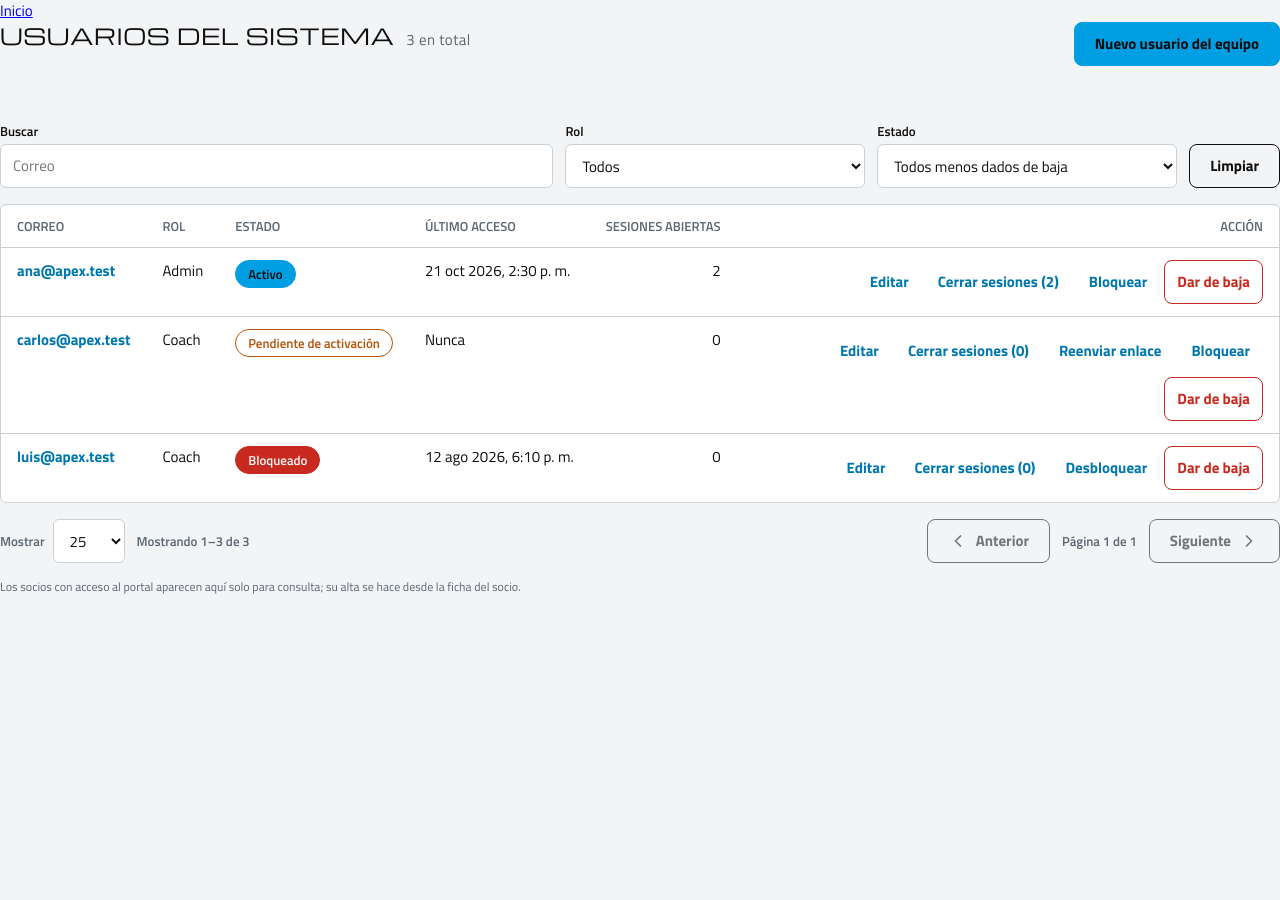
Test: UsersPage · cerrar el alta › Cancelar cierra el panel y la lista sigue igual
The width and height of the screenshot is (1280, 900).
Check: the link "ana@apex.test" is shown, box [17, 259, 115, 282]
Click the button "Nuevo usuario del equipo".
click(1177, 44)  # box [1074, 22, 1279, 66]
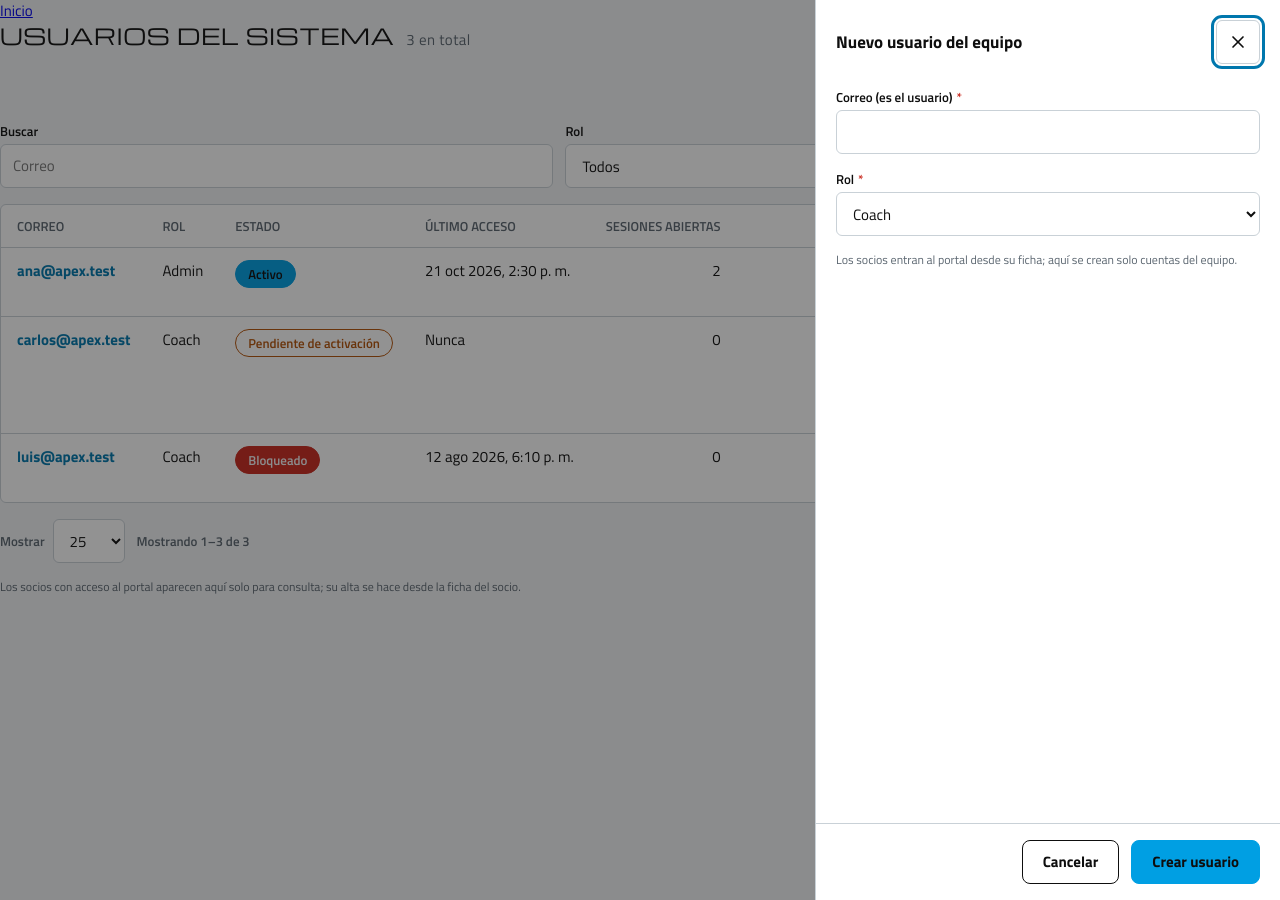
Click the button "Cancelar".
click(1070, 862)  # box [1022, 840, 1119, 884]
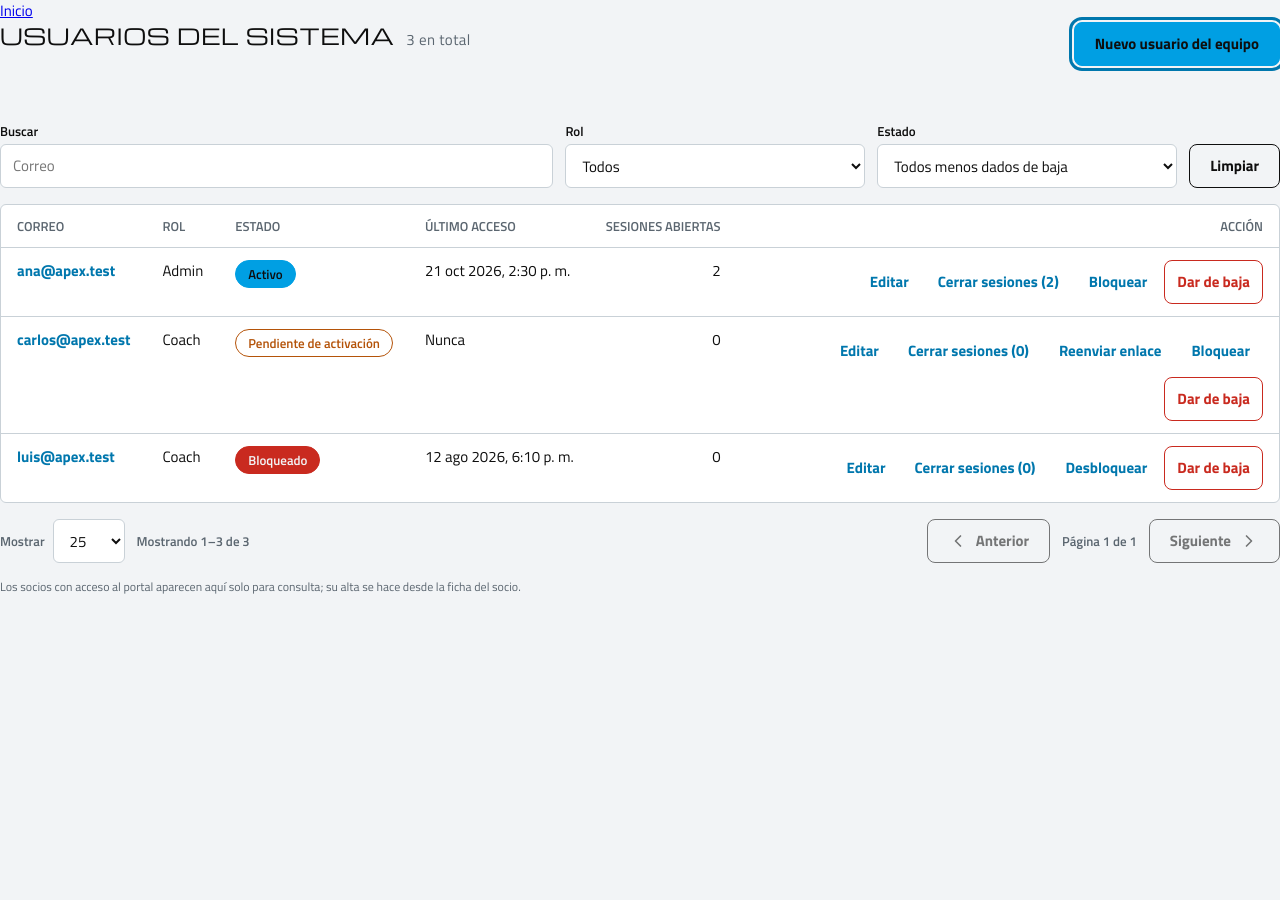
Check: the link "ana@apex.test" is shown, box [17, 259, 115, 282]
Check: the dialog is gone
